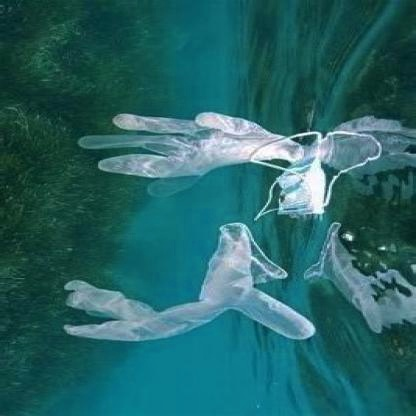Mask: (246, 125, 348, 219)
glove: (60, 219, 314, 347), (70, 108, 301, 186)
